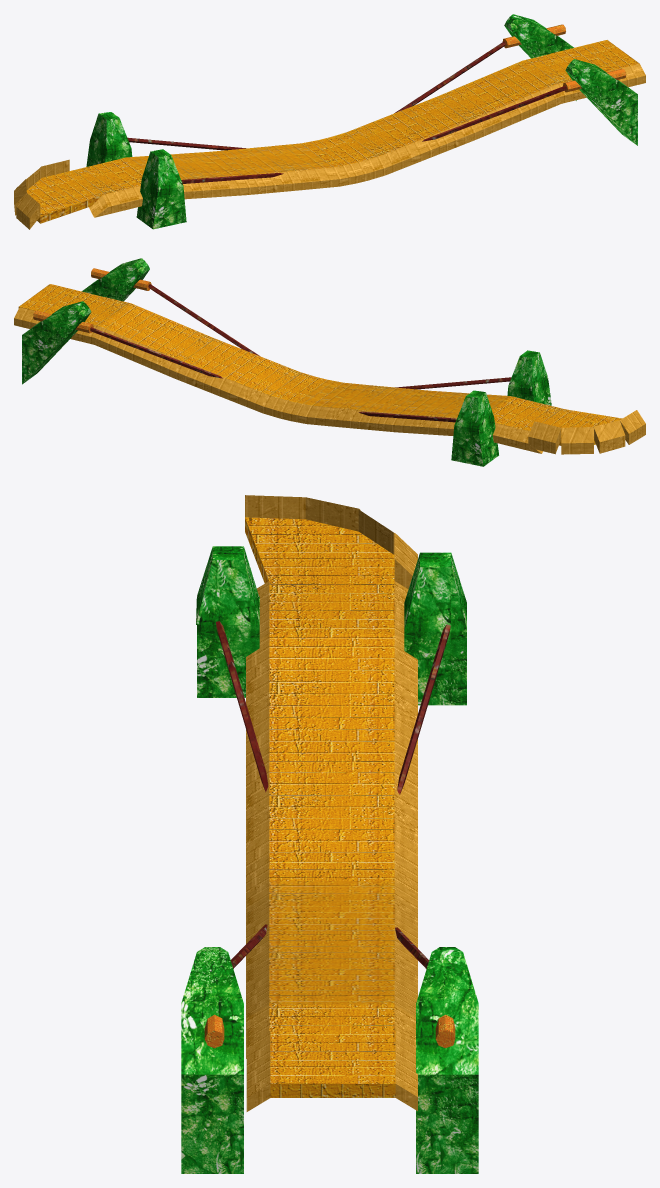
The model's file is bgropemid.glb.
The picture shows the model from 3 angles, top to bottom: view 1: azimuth 30°, elevation 25°; view 2: azimuth 150°, elevation 25°; view 3: azimuth 270°, elevation 25°; orthographic projection. The views are drawn at different scales.
Visible parts, largest first — view 1: bgropemid; view 2: bgropemid; view 3: bgropemid.
Part boxes in pixels (x1=…): bgropemid: x1=14, y1=14, x2=645, y2=229; bgropemid: x1=14, y1=258, x2=645, y2=466; bgropemid: x1=181, y1=495, x2=478, y2=1173.
Bounding box in the file's own units: 43.53 × 6.59 × 9.5.
5 materials, 5 textured.
